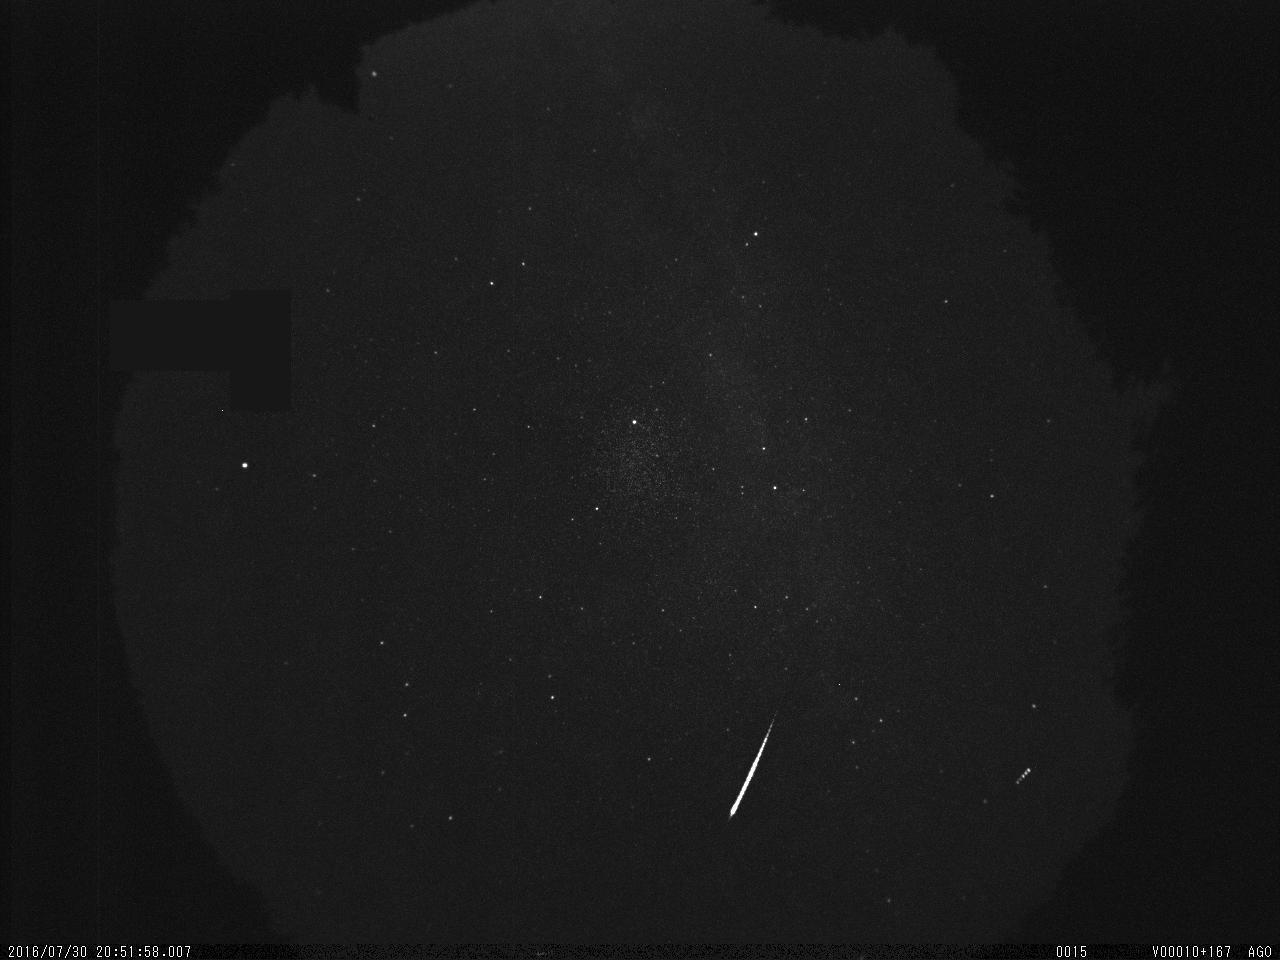meteor: (724, 697, 786, 823)
satelite: (1010, 760, 1036, 794)
